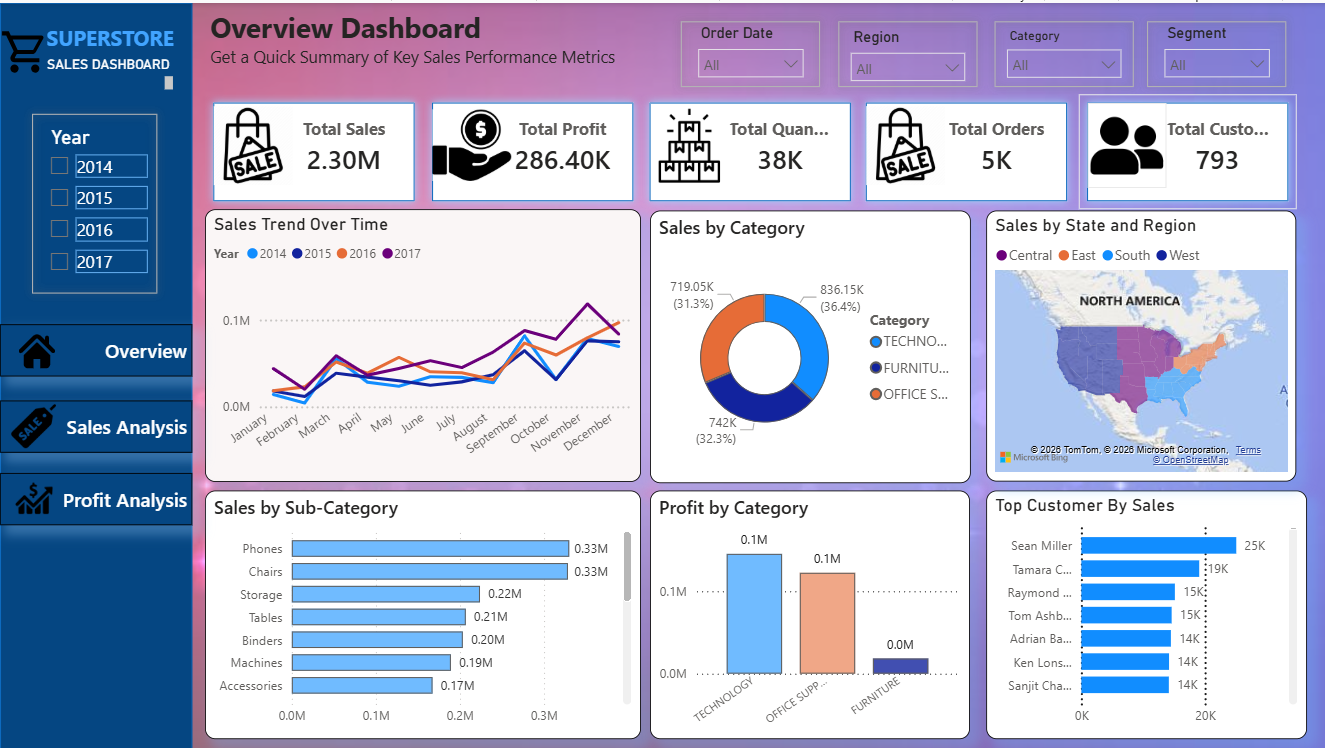

The page's visual inventory and layout, read from the dashboard file:
{"tool":"powerbi","page":{"name":"Page 1","canvas":[1280,720],"ordinal":0},"visuals":[{"type":"shape","box":[0,0,185.9,720.2],"z":0},{"type":"shape","box":[649.3,9.8,150.4,79.5],"z":0,"group":"g2"},{"type":"group","id":"g1","title":"Group 5","box":[951.4,9.8,150.4,79.5],"z":0,"group":"g4"},{"type":"shape","box":[1099.3,9.8,150.4,79.5],"z":0,"group":"g11"},{"type":"shape","box":[23.2,99,137,189.5],"z":0,"group":"g10"},{"type":"slicer","fields":{"Values":["cleaned_superstore.Order Date"]},"box":[664,15.9,122.3,68.5],"z":1000,"group":"g2"},{"type":"slicer","fields":{"Values":["cleaned_superstore.Segment"]},"box":[1114,15.9,122.3,68.5],"z":1000,"group":"g11"},{"type":"slicer","fields":{"Values":["cleaned_superstore.Category"]},"box":[960.8,19.5,130.8,59.9],"z":1000,"group":"g4"},{"type":"textbox","title":"SALES DASHBOARD","box":[23.2,47.7,149.2,40.4],"z":1000},{"type":"slicer","fields":{"Values":["cleaned_superstore.Year"]},"box":[36.6,113.6,111.3,163.3],"z":1000,"group":"g10"},{"type":"image","box":[0,19.6,47.7,56.3],"z":2000},{"type":"textbox","box":[198.1,0,507.5,88],"z":3000},{"type":"group","id":"g2","title":"Group 3","box":[649.3,9.8,150.4,79.5],"z":4000},{"type":"shape","box":[801,9.8,150.4,79.5],"z":4000,"group":"g3"},{"type":"shape","box":[951.4,9.8,150.4,79.5],"z":4000,"group":"g1"},{"type":"group","id":"g3","title":"Group 5","box":[801,9.8,150.4,79.5],"z":5000},{"type":"group","id":"g4","title":"Group 1","box":[951.4,9.8,150.4,79.5],"z":6000},{"type":"group","id":"g5","title":"Group 2","box":[198.1,88,210.3,111.3],"z":7000},{"type":"shape","box":[198.1,88,210.3,111.3],"z":7000,"group":"g5"},{"type":"shape","box":[408.4,88,210.3,111.3],"z":7000,"group":"g6"},{"type":"shape","box":[618.8,88,210.3,111.3],"z":7000,"group":"g7"},{"type":"shape","box":[827.9,88,210.3,111.3],"z":7000,"group":"g8"},{"type":"shape","box":[1040.6,88,210.3,111.3],"z":7000,"group":"g9"},{"type":"slicer","fields":{"Values":["cleaned_superstore.Region"]},"box":[810.8,19.6,130.8,57.5],"z":7001,"group":"g3"},{"type":"group","id":"g6","title":"Group 2","box":[408.4,88,210.3,111.3],"z":8000},{"type":"cardVisual","fields":{"Data":["cleaned_superstore.Total Sales"]},"box":[265.4,99,133.3,79.5],"z":8000,"group":"g5"},{"type":"cardVisual","fields":{"Data":["cleaned_superstore.Total Profit"]},"box":[475.7,99,133.3,79.5],"z":8000,"group":"g6"},{"type":"cardVisual","fields":{"Data":["cleaned_superstore.Total Quantity"]},"box":[686.1,99,133.3,79.5],"z":8000,"group":"g7"},{"type":"cardVisual","fields":{"Data":["cleaned_superstore.Total Orders"]},"box":[895.2,99,133.3,79.5],"z":8000,"group":"g8"},{"type":"cardVisual","fields":{"Data":["cleaned_superstore.Total Customer"]},"box":[1107.9,99,133.3,79.5],"z":8000,"group":"g9"},{"type":"group","id":"g7","title":"Group 2","box":[618.8,88,210.3,111.3],"z":9000},{"type":"image","box":[206.7,96.6,75.8,81.9],"z":9000,"group":"g5"},{"type":"image","box":[417,96.6,75.8,81.9],"z":9000,"group":"g6"},{"type":"image","box":[627.4,96.6,75.8,81.9],"z":9000,"group":"g7"},{"type":"image","box":[836.5,96.6,75.8,81.9],"z":9000,"group":"g8"},{"type":"image","box":[1049.2,96.6,75.8,81.9],"z":9000,"group":"g9"},{"type":"group","id":"g8","title":"Group 2","box":[827.9,88,210.3,111.3],"z":10000},{"type":"group","id":"g9","title":"Group 2","box":[1040.6,88,210.3,111.3],"z":11000},{"type":"lineChart","title":"Sales Trend Over Time","fields":{"Series":["cleaned_superstore.Year"],"Y":["Sum(cleaned_superstore.Sales)"],"Category":["cleaned_superstore.Order Date.Variation.Date Hierarchy.Month"]},"box":[198.1,199.3,420.7,262.9],"z":12000},{"type":"group","id":"g10","title":"Group 3","box":[23.2,99,137,189.5],"z":13000},{"type":"donutChart","title":"Sales by Category","fields":{"Category":["cleaned_superstore.Category"],"Y":["Sum(cleaned_superstore.Sales)"]},"box":[627.3,200.5,309.4,262.9],"z":14000},{"type":"barChart","title":"Sales by Sub-Category","fields":{"Category":["cleaned_superstore.Sub-Category"],"Y":["Sum(cleaned_superstore.Sales)"]},"box":[198.1,470.8,420.7,239.7],"z":15000},{"type":"clusteredColumnChart","title":"Profit by Category","fields":{"Category":["cleaned_superstore.Category"],"Y":["cleaned_superstore.Total Profit"]},"box":[627,471,309,240],"z":16000},{"type":"barChart","title":"Top Customer By Sales ","fields":{"Category":["cleaned_superstore.Customer Name"],"Y":["cleaned_superstore.Total Sales"]},"box":[951.4,470.8,309.4,239.7],"z":17000},{"type":"filledMap","title":"Sales by State and Region","fields":{"Category":["cleaned_superstore.State"],"Series":["cleaned_superstore.Region"]},"box":[951.4,200.5,299.6,261.7],"z":18000},{"type":"actionButton","box":[0,310.6,185.9,50.1],"z":19000},{"type":"actionButton","box":[0,384,185.9,50.1],"z":20000},{"type":"actionButton","box":[0,453.7,185.9,50.1],"z":21000},{"type":"group","id":"g11","title":"Group 3","box":[1099.3,9.8,150.4,79.5],"z":22000},{"type":"image","box":[15.9,317.9,40.4,35.5],"z":23000},{"type":"image","box":[8.6,387.6,47.7,42.8],"z":24000},{"type":"image","box":[12.2,458.6,41.6,42.8],"z":25000}]}

Visuals, with their boxes in screenshot pixels (x1, y1, x2, y2), scaled from the page's 1280x720 canvas onto the 1325x748 screenshot:
shape: detection(0, 0, 192, 747)
shape: detection(672, 10, 828, 93)
"Group 5" group: detection(985, 10, 1141, 93)
shape: detection(1138, 10, 1294, 93)
shape: detection(24, 103, 166, 300)
slicer - cleaned_superstore.Order Date: detection(687, 17, 814, 88)
slicer - cleaned_superstore.Segment: detection(1153, 17, 1280, 88)
slicer - cleaned_superstore.Category: detection(995, 20, 1130, 82)
"SALES DASHBOARD" textbox: detection(24, 50, 178, 92)
slicer - cleaned_superstore.Year: detection(38, 118, 153, 288)
image: detection(0, 20, 49, 79)
textbox: detection(205, 0, 730, 91)
"Group 3" group: detection(672, 10, 828, 93)
shape: detection(829, 10, 985, 93)
shape: detection(985, 10, 1141, 93)
"Group 5" group: detection(829, 10, 985, 93)
"Group 1" group: detection(985, 10, 1141, 93)
"Group 2" group: detection(205, 91, 423, 207)
shape: detection(205, 91, 423, 207)
shape: detection(423, 91, 640, 207)
shape: detection(641, 91, 858, 207)
shape: detection(857, 91, 1075, 207)
shape: detection(1077, 91, 1295, 207)
slicer - cleaned_superstore.Region: detection(839, 20, 975, 80)
"Group 2" group: detection(423, 91, 640, 207)
cardVisual - cleaned_superstore.Total Sales: detection(275, 103, 413, 185)
cardVisual - cleaned_superstore.Total Profit: detection(492, 103, 630, 185)
cardVisual - cleaned_superstore.Total Quantity: detection(710, 103, 848, 185)
cardVisual - cleaned_superstore.Total Orders: detection(927, 103, 1065, 185)
cardVisual - cleaned_superstore.Total Customer: detection(1147, 103, 1285, 185)
"Group 2" group: detection(641, 91, 858, 207)
image: detection(214, 100, 292, 185)
image: detection(432, 100, 510, 185)
image: detection(649, 100, 728, 185)
image: detection(866, 100, 944, 185)
image: detection(1086, 100, 1165, 185)
"Group 2" group: detection(857, 91, 1075, 207)
"Group 2" group: detection(1077, 91, 1295, 207)
"Sales Trend Over Time" lineChart: detection(205, 207, 641, 480)
"Group 3" group: detection(24, 103, 166, 300)
"Sales by Category" donutChart: detection(649, 208, 970, 481)
"Sales by Sub-Category" barChart: detection(205, 489, 641, 738)
"Profit by Category" clusteredColumnChart: detection(649, 489, 969, 739)
"Top Customer By Sales " barChart: detection(985, 489, 1305, 738)
"Sales by State and Region" filledMap: detection(985, 208, 1295, 480)
actionButton: detection(0, 323, 192, 375)
actionButton: detection(0, 399, 192, 451)
actionButton: detection(0, 471, 192, 523)
"Group 3" group: detection(1138, 10, 1294, 93)
image: detection(16, 330, 58, 367)
image: detection(9, 403, 58, 447)
image: detection(13, 476, 56, 521)
